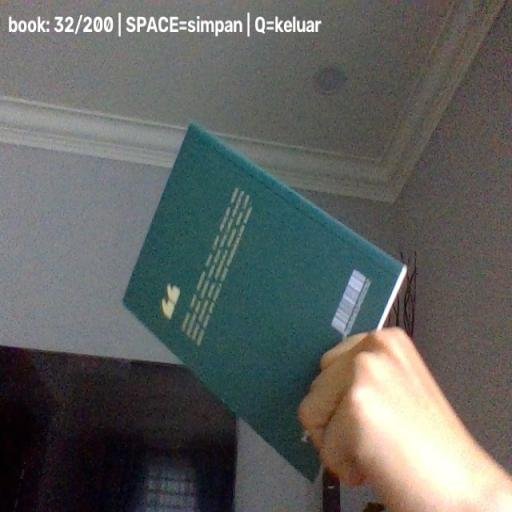Book: (122, 122, 407, 484)
